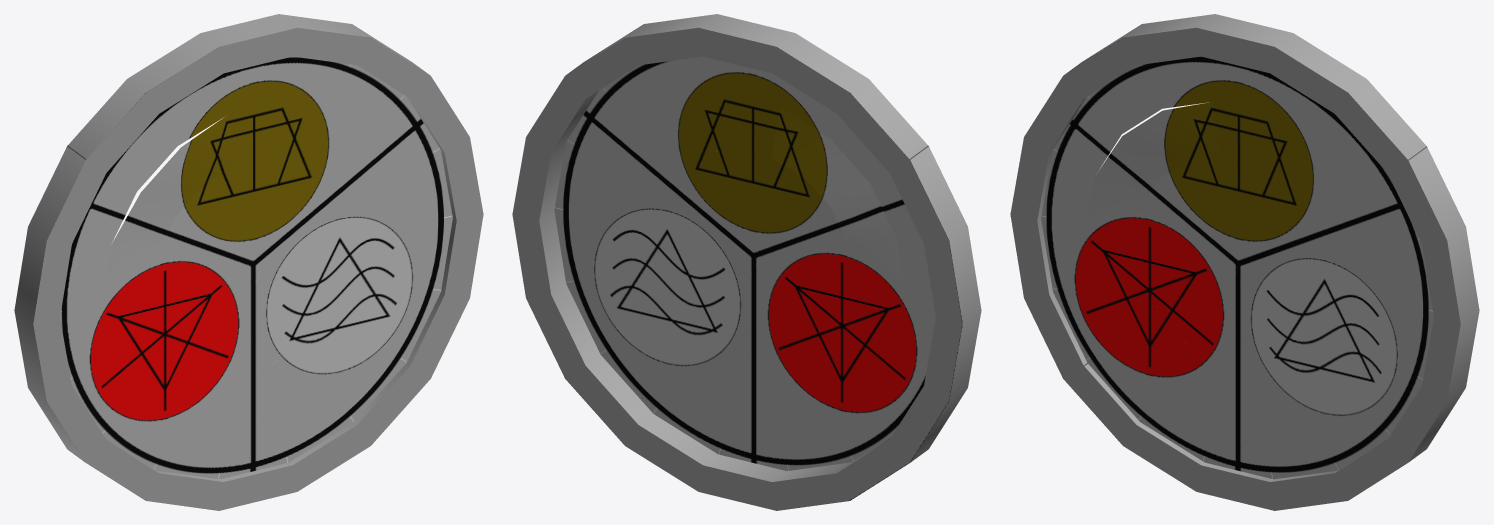
The model's file is Puzzle Door.FBX.
3 views of the same model, side by side, from view 1: azimuth 30°, elevation 25°; view 2: azimuth 150°, elevation 25°; view 3: azimuth 330°, elevation 25° (orthographic).
Parts seen in each view (by area): view 1: Puzzle Door Frame, Puzzle Door 1, Puzzle Door 2, Puzzle Door 3, Puzzle Door 4; view 2: Puzzle Door Frame, Puzzle Door 1, Puzzle Door 2, Puzzle Door 3, Puzzle Door 4; view 3: Puzzle Door Frame, Puzzle Door 1, Puzzle Door 2, Puzzle Door 3, Puzzle Door 4.
Boxes of the visible parts, x1,y1,x2,y2 form: Puzzle Door Frame: (14,14,483,510); Puzzle Door 1: (60,56,452,479); Puzzle Door 2: (101,102,404,427); Puzzle Door 3: (152,157,354,373); Puzzle Door 4: (202,211,303,319); Puzzle Door Frame: (512,14,981,510); Puzzle Door 1: (554,56,935,470); Puzzle Door 2: (602,94,905,419); Puzzle Door 3: (653,148,854,365); Puzzle Door 4: (703,203,804,311); Puzzle Door Frame: (1010,14,1479,510); Puzzle Door 1: (1041,56,1433,479); Puzzle Door 2: (1086,102,1389,427); Puzzle Door 3: (1137,156,1338,372); Puzzle Door 4: (1187,210,1288,318).
Size of the model in its own units: 20.1 by 19.8 by 1.45.
Materials: 2 (2 with a texture image).
